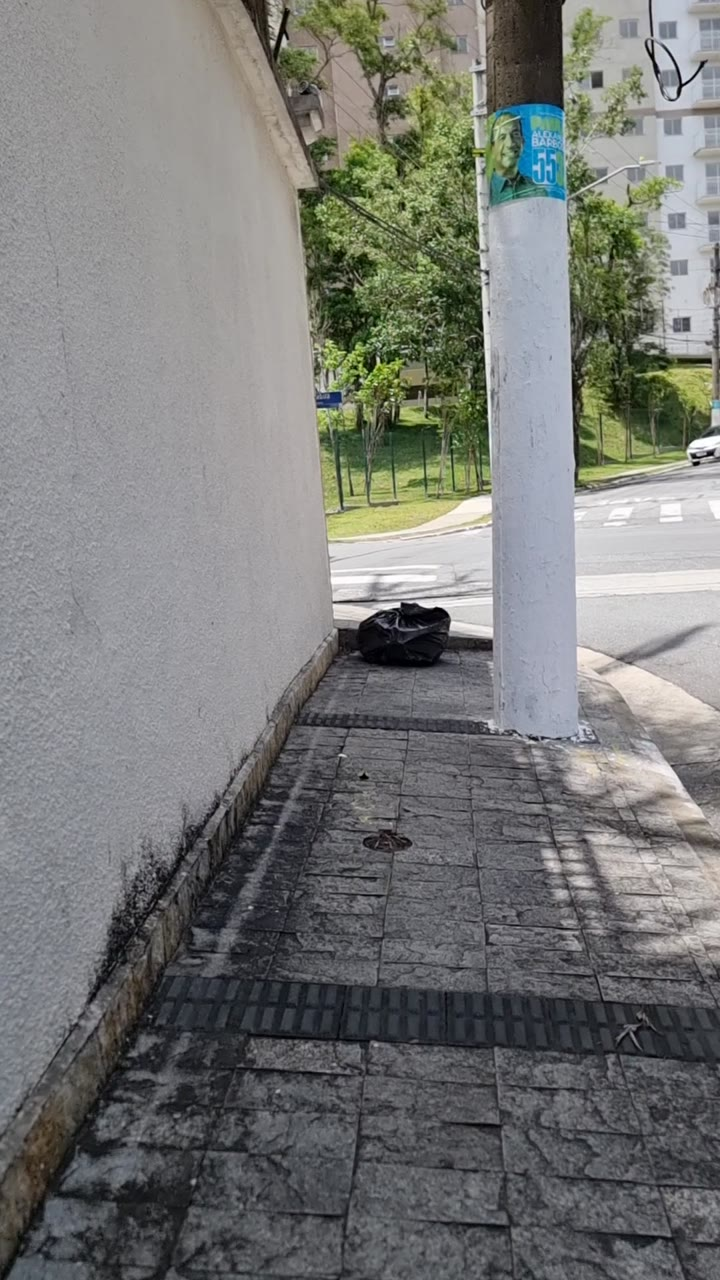obstaculo: (490, 0, 590, 755), (357, 602, 450, 666)
